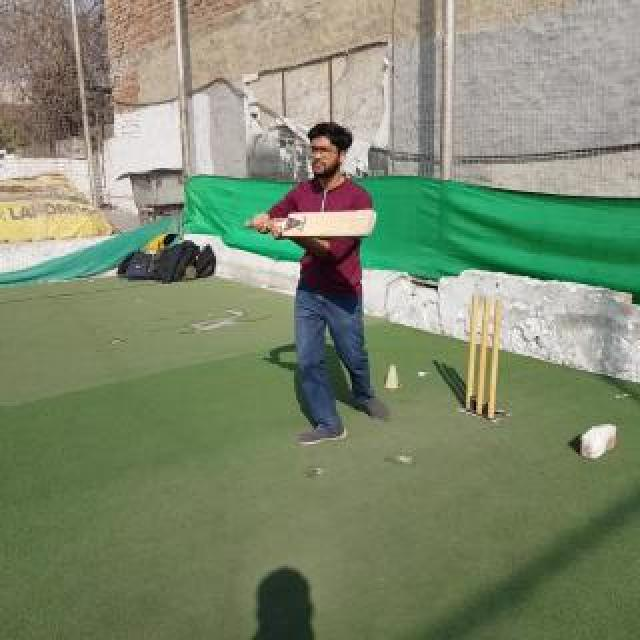bat: (244, 208, 378, 238)
